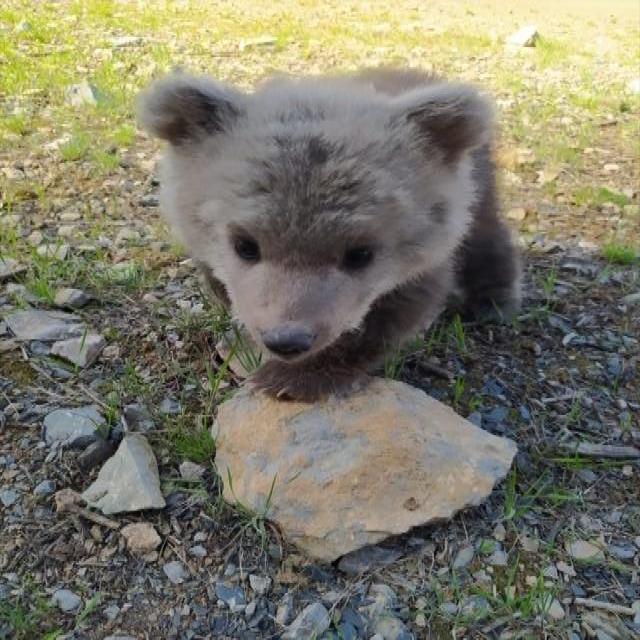Bear: (136, 72, 524, 410)
